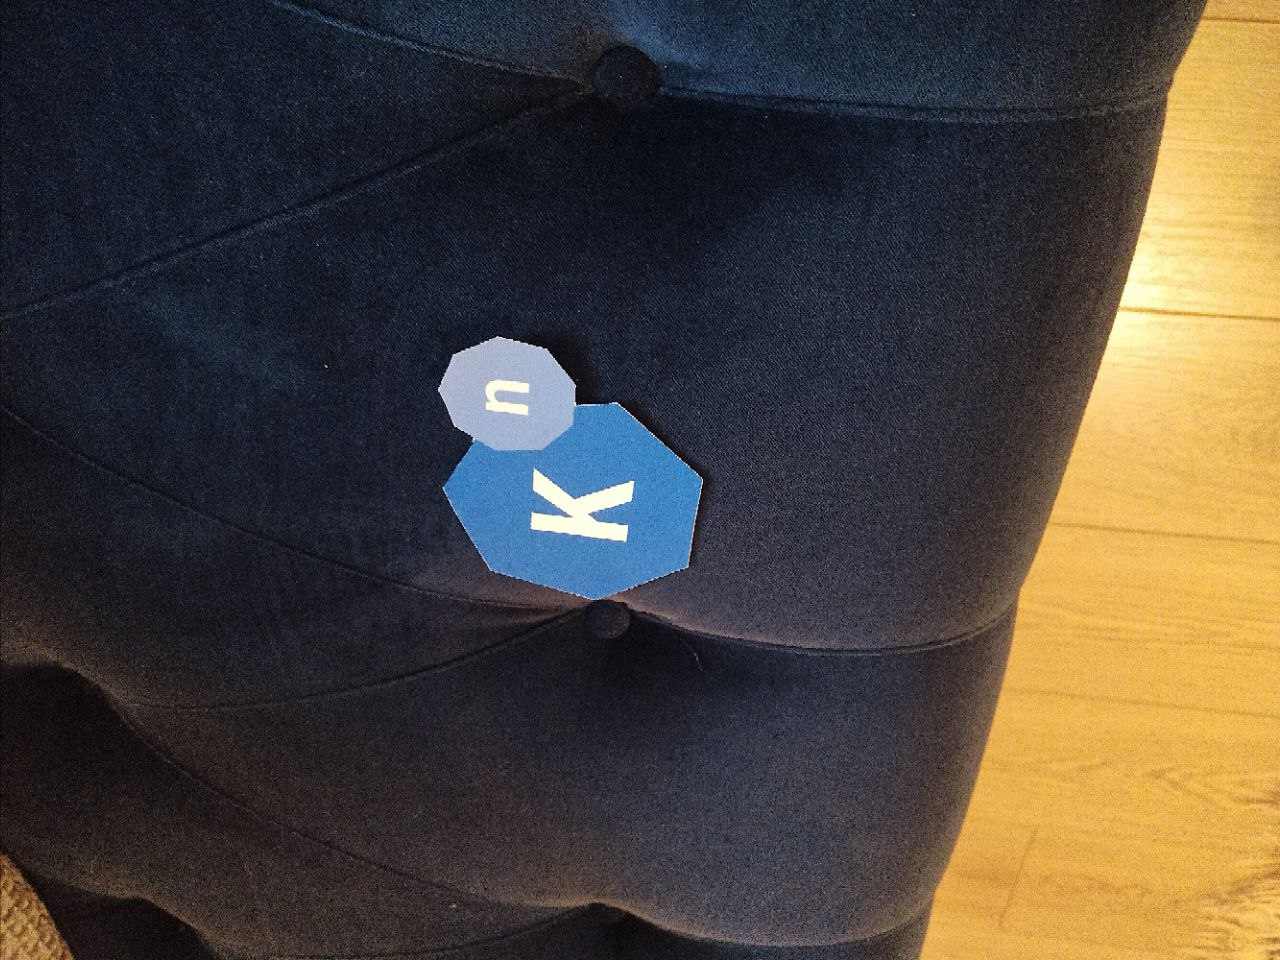knative: (434, 331, 707, 602)
